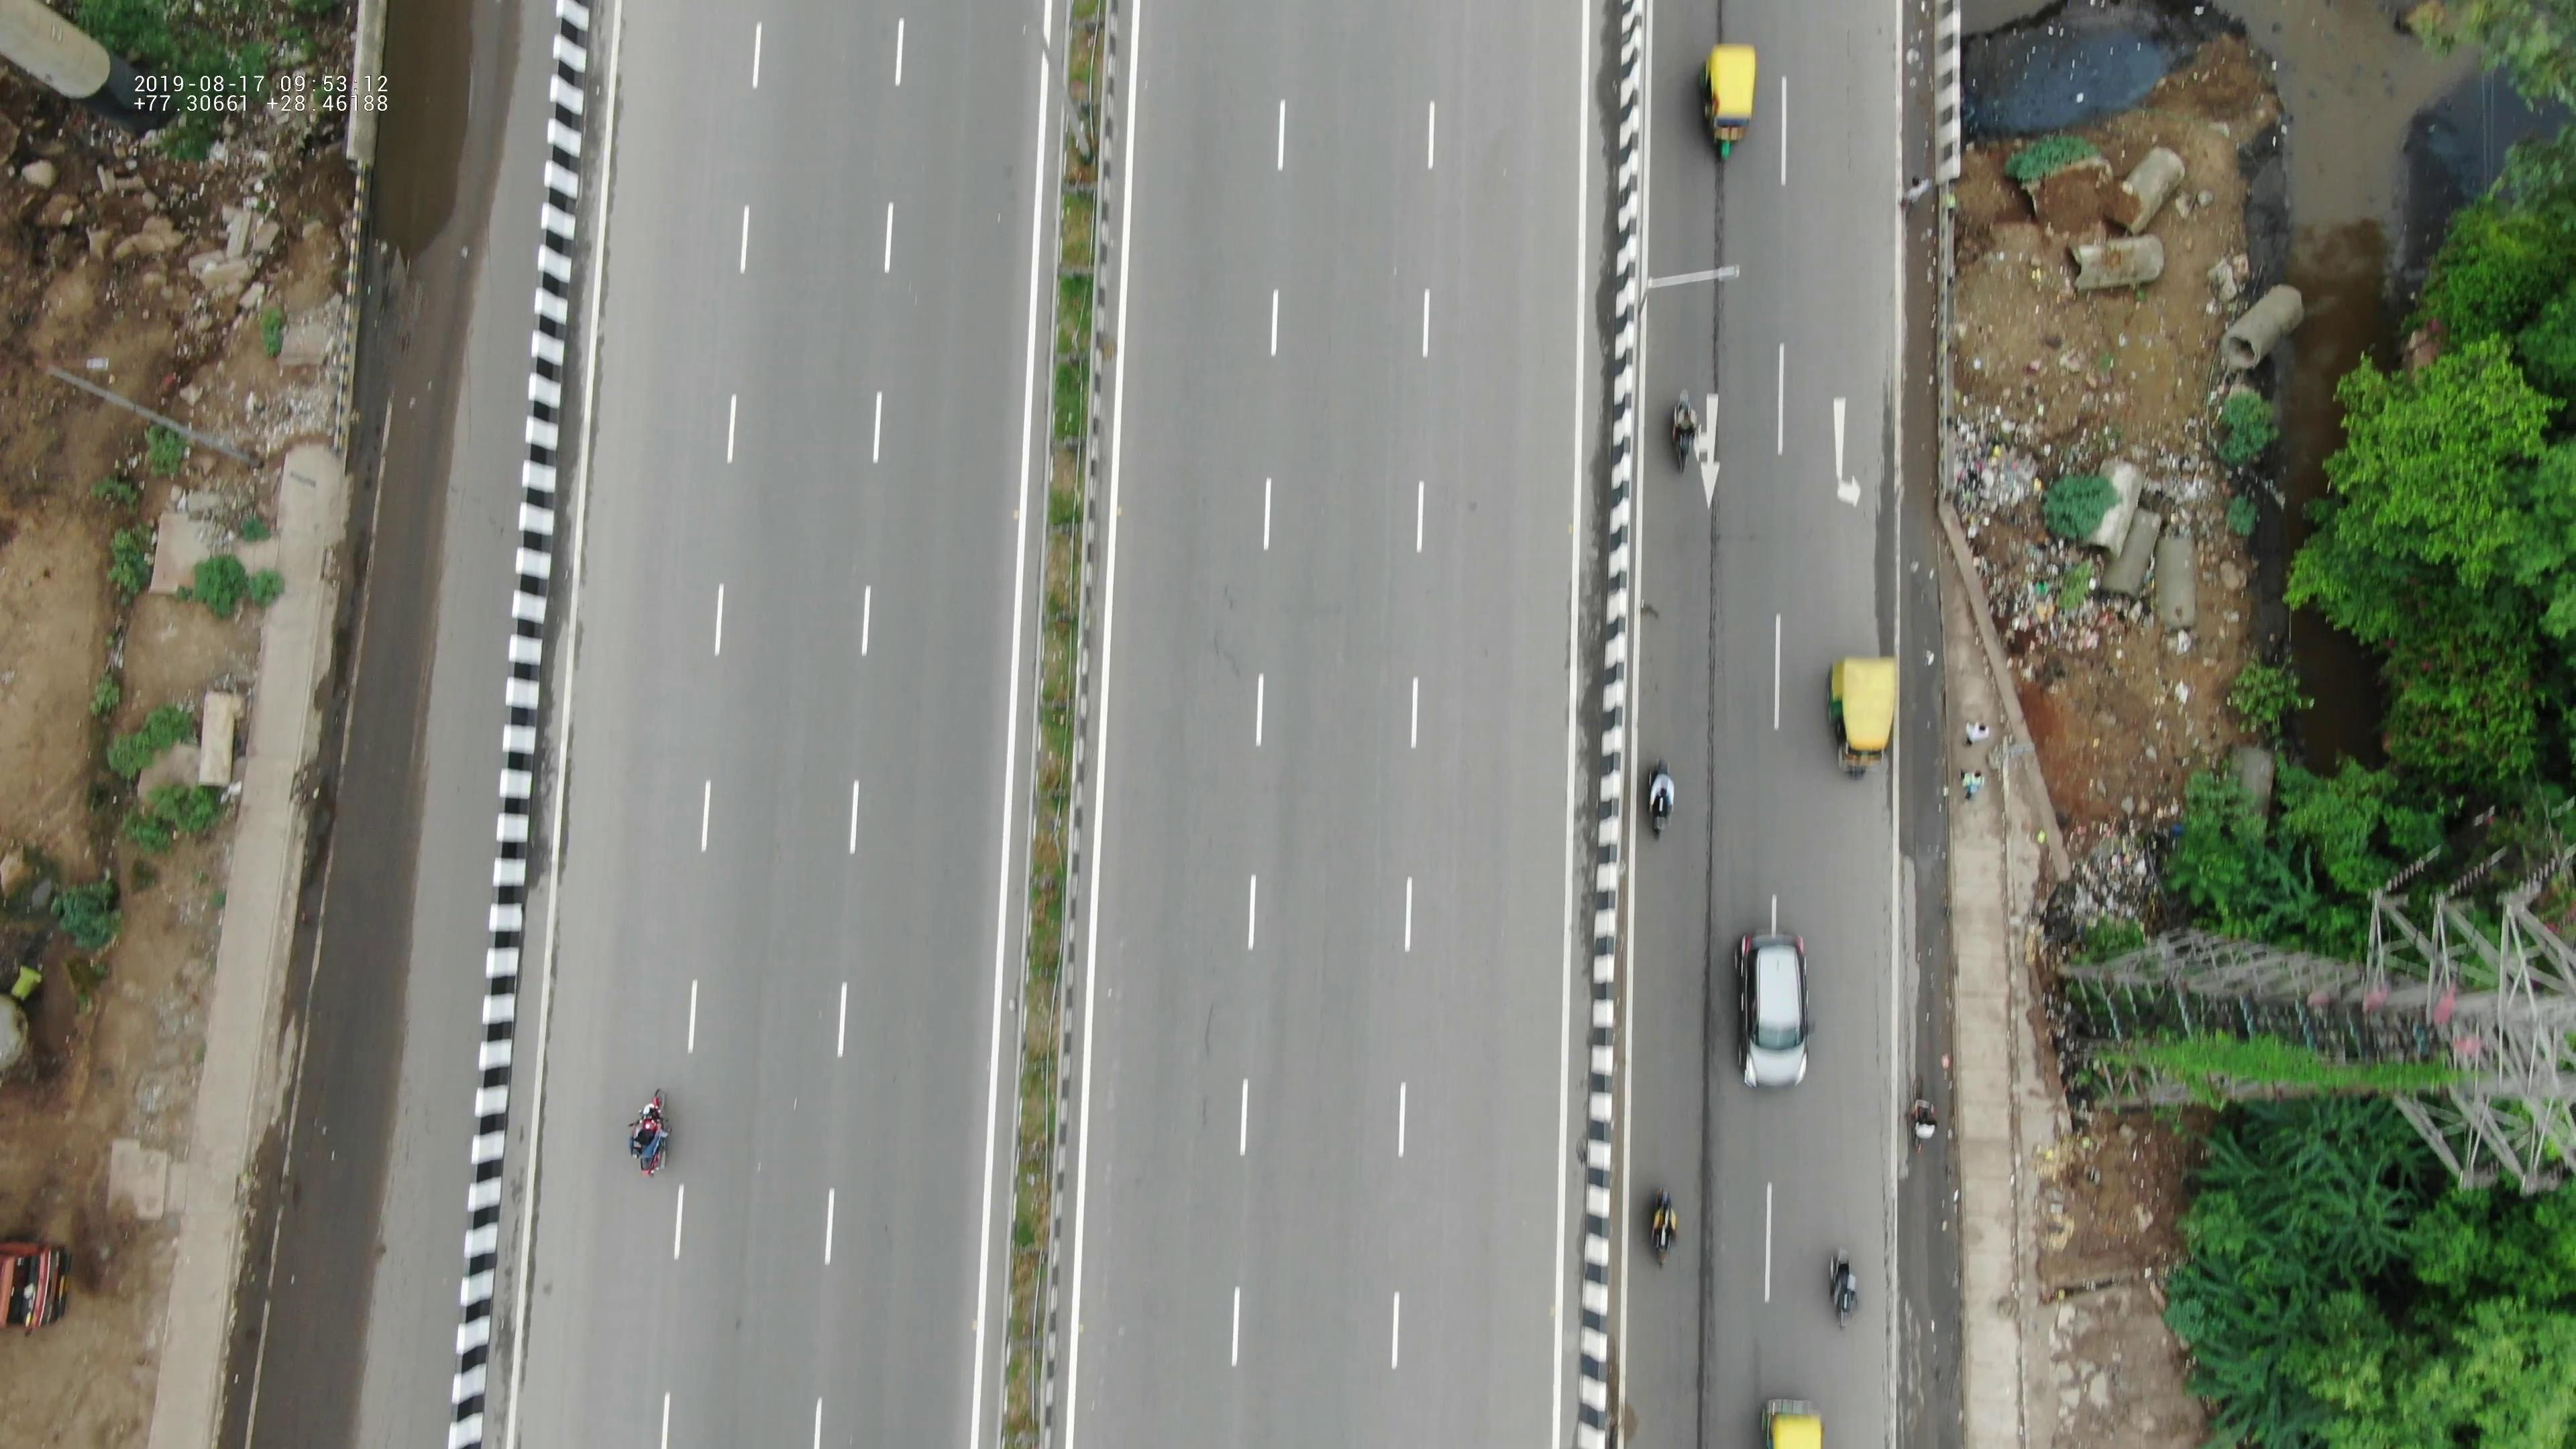Road_side_garbage: (1925, 372, 2219, 683), (2013, 809, 2171, 941)
